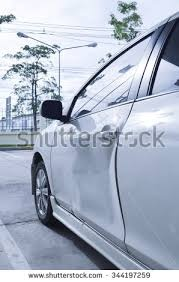Dent: (71, 116, 123, 224)
